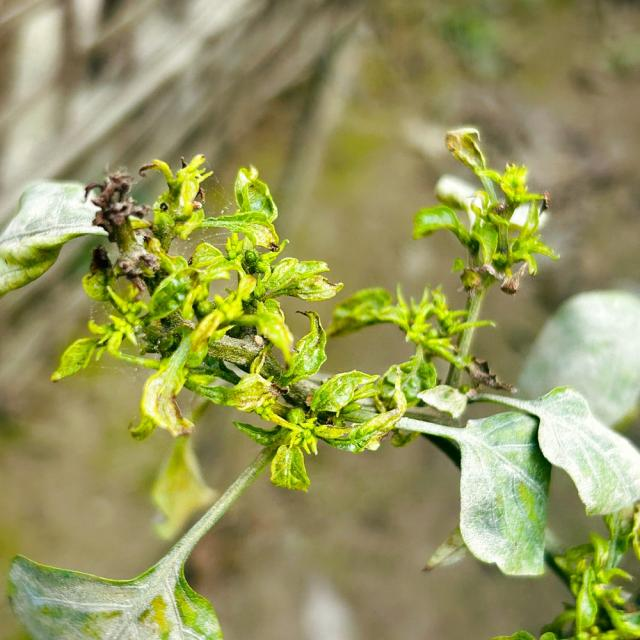Chilli_Leaf_Curl: (2, 127, 637, 636), (49, 153, 344, 442), (6, 440, 276, 638), (389, 403, 552, 578), (411, 126, 559, 296), (464, 383, 639, 518), (230, 368, 407, 492), (0, 178, 109, 297)
